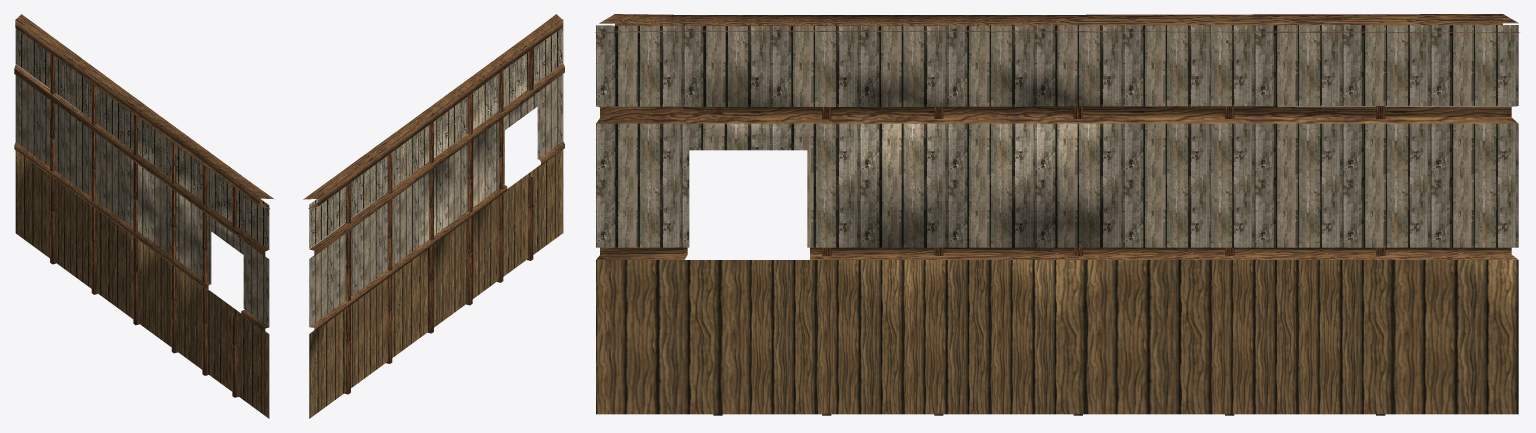
Rendered from LAKETOWN_WAREHOUSE2_PS_WH2_SIDEWALL7746__GX.fbx.
3 renders of one model, left to right at view 1: azimuth 30°, elevation 25°; view 2: azimuth 150°, elevation 25°; view 3: azimuth 270°, elevation 25°, orthographic. The views are drawn at different scales.
Parts seen in each view (by area): view 1: LAKETOWN_WAREHOUSE2_PS_WH2_SIDEWALL7746__GX; view 2: LAKETOWN_WAREHOUSE2_PS_WH2_SIDEWALL7746__GX; view 3: LAKETOWN_WAREHOUSE2_PS_WH2_SIDEWALL7746__GX.
Boxes of the visible parts, <box> form: LAKETOWN_WAREHOUSE2_PS_WH2_SIDEWALL7746__GX: <box>14,14,274,418</box>; LAKETOWN_WAREHOUSE2_PS_WH2_SIDEWALL7746__GX: <box>303,14,564,418</box>; LAKETOWN_WAREHOUSE2_PS_WH2_SIDEWALL7746__GX: <box>595,14,1519,415</box>.
Size of the model in its own units: 5834 by 114126 by 240302.
Materials: 5 (5 with a texture image).
